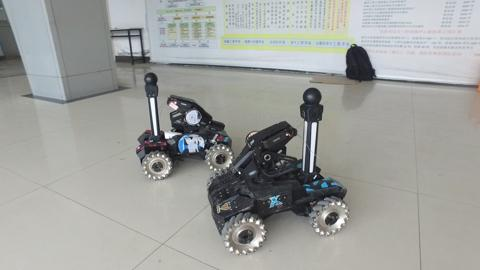chariot: (203, 89, 350, 258), (125, 73, 237, 177)
